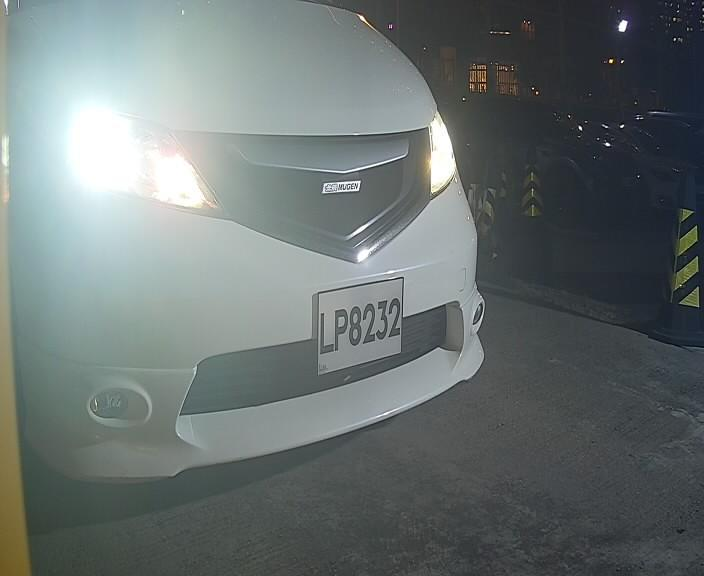License Plate: (299, 263, 415, 381)
